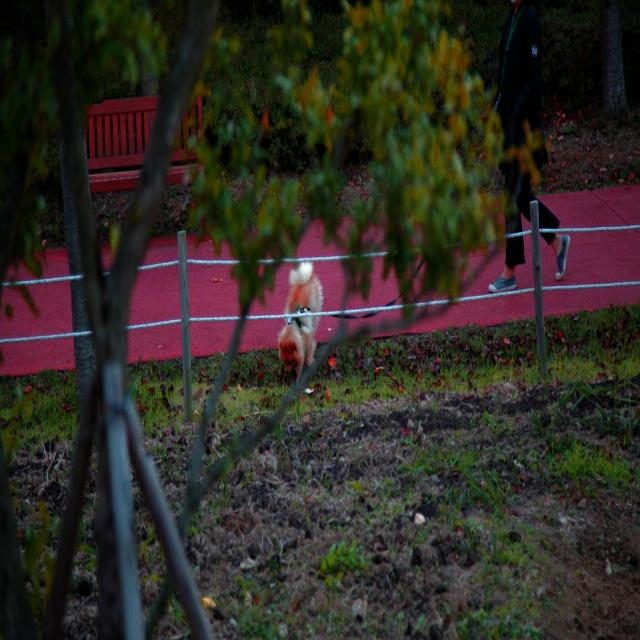Leashed_Dog: (278, 93, 525, 380)
